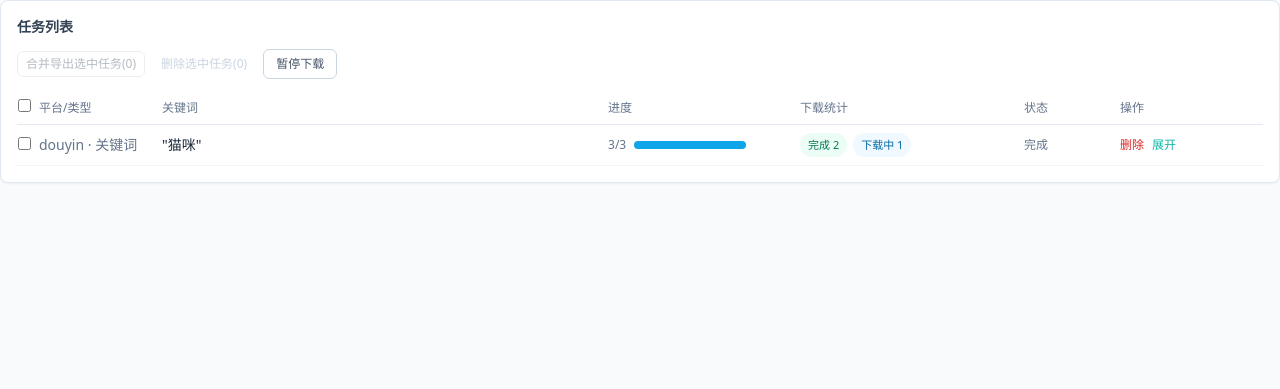
N05 视频列表显示收藏数 › 有收藏列；不知道的显示 —
The width and height of the screenshot is (1280, 389).
Step 1. Click the button "展开" → [1164, 145], box [1152, 137, 1176, 153]
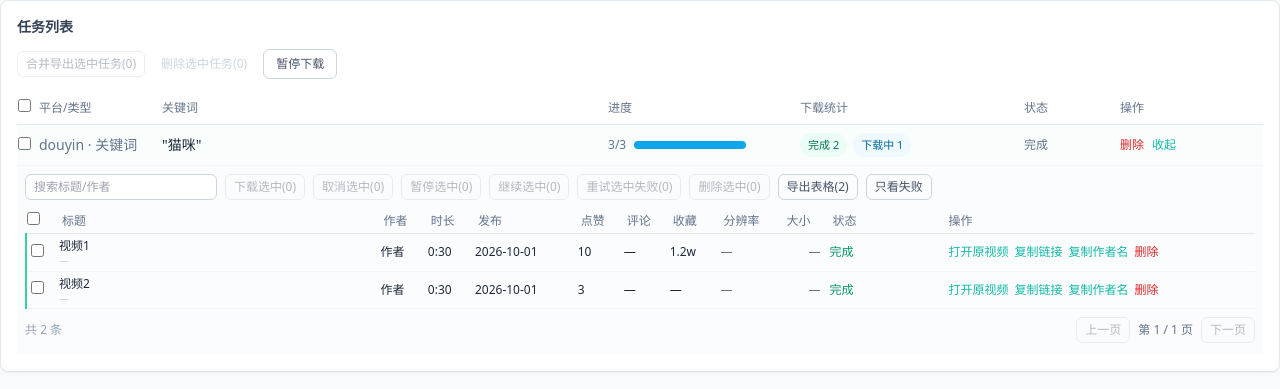
Expected: the text "视频1" is shown, [59, 237, 90, 254]
Expected: the cell "1.2w" is shown, [669, 234, 719, 271]
Expected: the 5th cell "—" is shown, [669, 271, 719, 308]
